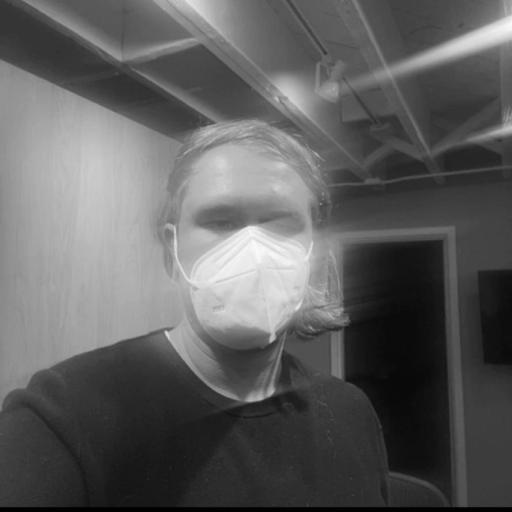mask: (153, 108, 353, 354)
